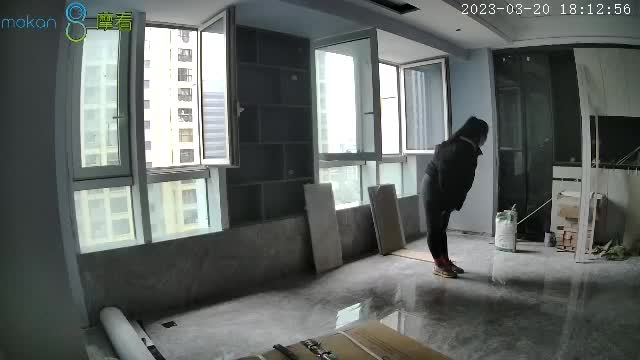people: (421, 117, 490, 280)
window: (73, 18, 217, 242), (314, 42, 417, 209)
